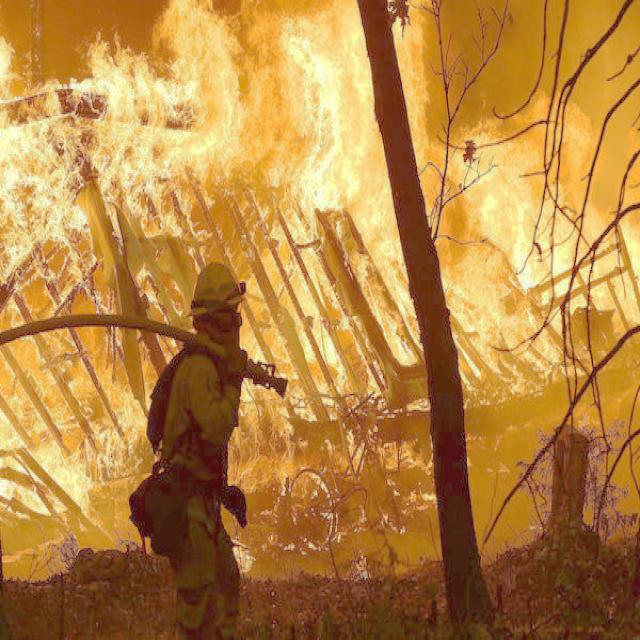api: (1, 1, 441, 299), (438, 74, 640, 395), (284, 197, 439, 433), (1, 371, 169, 547), (134, 267, 173, 341)
